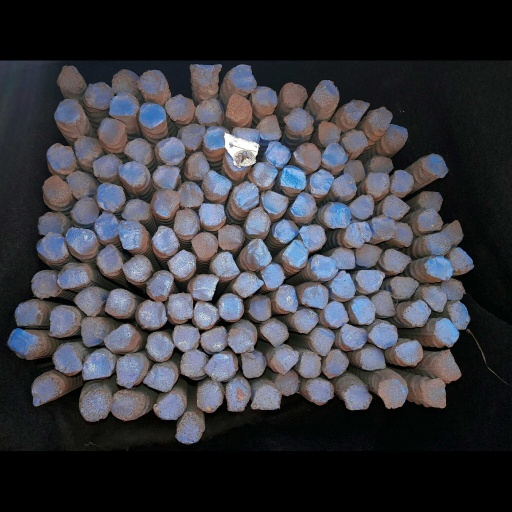dipstick: (6, 328, 41, 359), (80, 388, 110, 422), (104, 324, 139, 351), (46, 142, 76, 173), (53, 344, 83, 375), (189, 64, 220, 94), (136, 299, 167, 328), (35, 232, 67, 260), (203, 353, 235, 381), (111, 390, 141, 419), (145, 270, 173, 301), (143, 365, 175, 392), (57, 263, 90, 289), (82, 352, 113, 379), (176, 413, 203, 444), (153, 393, 185, 419), (116, 355, 141, 388), (65, 171, 94, 199), (156, 137, 185, 165), (66, 227, 95, 255), (73, 288, 102, 316), (203, 170, 231, 199), (260, 318, 288, 347), (378, 379, 406, 408), (70, 197, 100, 224), (31, 271, 61, 298), (196, 383, 223, 413), (226, 64, 257, 90), (225, 379, 250, 411), (97, 117, 125, 145), (84, 81, 113, 108), (151, 189, 180, 216), (281, 239, 308, 268), (152, 226, 178, 256), (50, 306, 76, 336), (31, 377, 61, 403), (97, 183, 125, 210), (104, 288, 131, 316), (123, 254, 150, 282), (167, 249, 195, 276), (146, 333, 173, 361), (293, 143, 320, 171), (343, 221, 371, 248), (97, 243, 123, 272), (14, 300, 43, 326), (233, 181, 259, 210), (81, 317, 106, 347), (233, 272, 263, 297), (246, 239, 271, 269), (108, 93, 139, 117), (200, 326, 227, 353), (74, 136, 102, 162), (43, 175, 71, 201), (339, 323, 367, 349), (137, 70, 166, 95), (194, 300, 219, 329), (184, 152, 209, 181), (225, 94, 250, 123), (270, 349, 299, 374), (111, 69, 138, 95), (241, 351, 267, 378), (191, 232, 218, 258), (178, 124, 205, 150), (313, 80, 339, 107), (403, 300, 430, 326), (396, 340, 423, 366), (165, 95, 193, 120), (38, 211, 66, 236), (253, 384, 281, 409), (195, 99, 223, 124), (324, 349, 349, 377), (424, 256, 452, 281), (369, 323, 397, 348), (57, 65, 83, 91), (173, 324, 199, 350), (180, 350, 206, 376), (118, 161, 145, 186), (124, 138, 151, 163), (139, 103, 166, 128), (168, 293, 193, 320), (227, 328, 254, 353), (260, 263, 285, 290), (307, 379, 334, 404), (421, 153, 448, 178), (383, 194, 410, 219), (350, 298, 375, 325), (434, 318, 459, 345), (344, 385, 371, 410), (54, 99, 82, 123), (152, 165, 180, 189), (266, 140, 290, 168), (331, 270, 355, 298), (437, 352, 461, 380), (93, 154, 122, 177), (312, 327, 335, 356), (379, 249, 408, 272), (218, 294, 243, 320), (213, 252, 239, 277), (177, 181, 203, 206), (253, 162, 278, 188), (284, 107, 310, 132), (293, 308, 318, 334), (324, 203, 350, 228), (448, 247, 474, 272), (174, 209, 198, 236), (217, 225, 244, 249), (246, 208, 270, 235), (261, 190, 288, 214), (311, 254, 338, 278), (299, 225, 326, 249), (422, 285, 446, 312), (119, 220, 142, 248), (300, 285, 328, 308), (364, 172, 389, 197), (349, 194, 374, 219), (194, 274, 218, 300), (257, 114, 281, 140), (283, 82, 307, 108), (281, 165, 307, 189), (325, 301, 349, 327), (371, 291, 395, 317), (291, 192, 318, 215), (390, 276, 417, 299), (276, 285, 298, 313), (447, 301, 468, 330), (425, 379, 446, 408), (94, 214, 118, 239), (204, 126, 229, 150), (372, 215, 396, 240), (275, 369, 298, 395), (299, 351, 321, 378), (355, 270, 382, 292), (309, 170, 333, 194), (356, 243, 380, 267), (425, 232, 450, 255), (199, 203, 225, 225), (252, 86, 278, 108), (122, 199, 149, 220), (318, 121, 341, 145), (361, 347, 385, 370), (322, 143, 347, 165), (273, 220, 298, 242), (343, 129, 368, 151), (417, 209, 442, 231), (233, 126, 260, 146), (441, 277, 464, 300), (332, 174, 356, 196), (344, 100, 369, 121), (370, 107, 392, 130), (343, 160, 365, 183), (250, 296, 271, 320), (331, 248, 355, 269), (418, 192, 443, 212), (392, 170, 413, 193), (394, 222, 413, 247), (444, 220, 463, 245), (387, 123, 407, 145), (370, 156, 393, 174)
